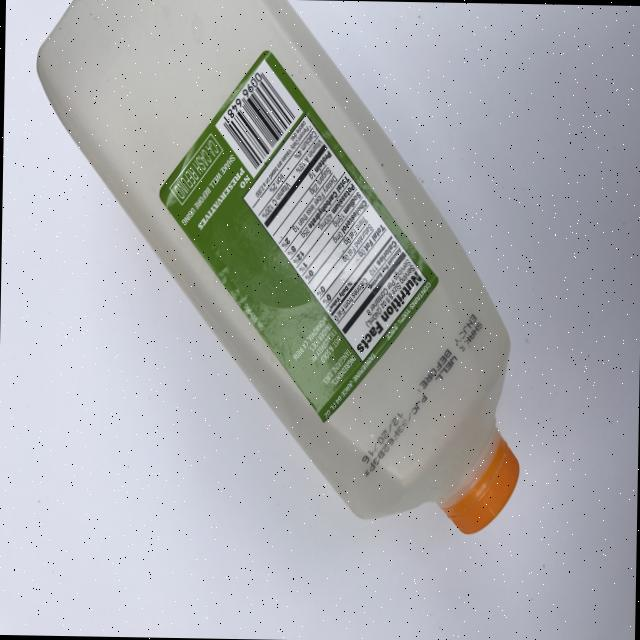plastic: (27, 0, 527, 535)
